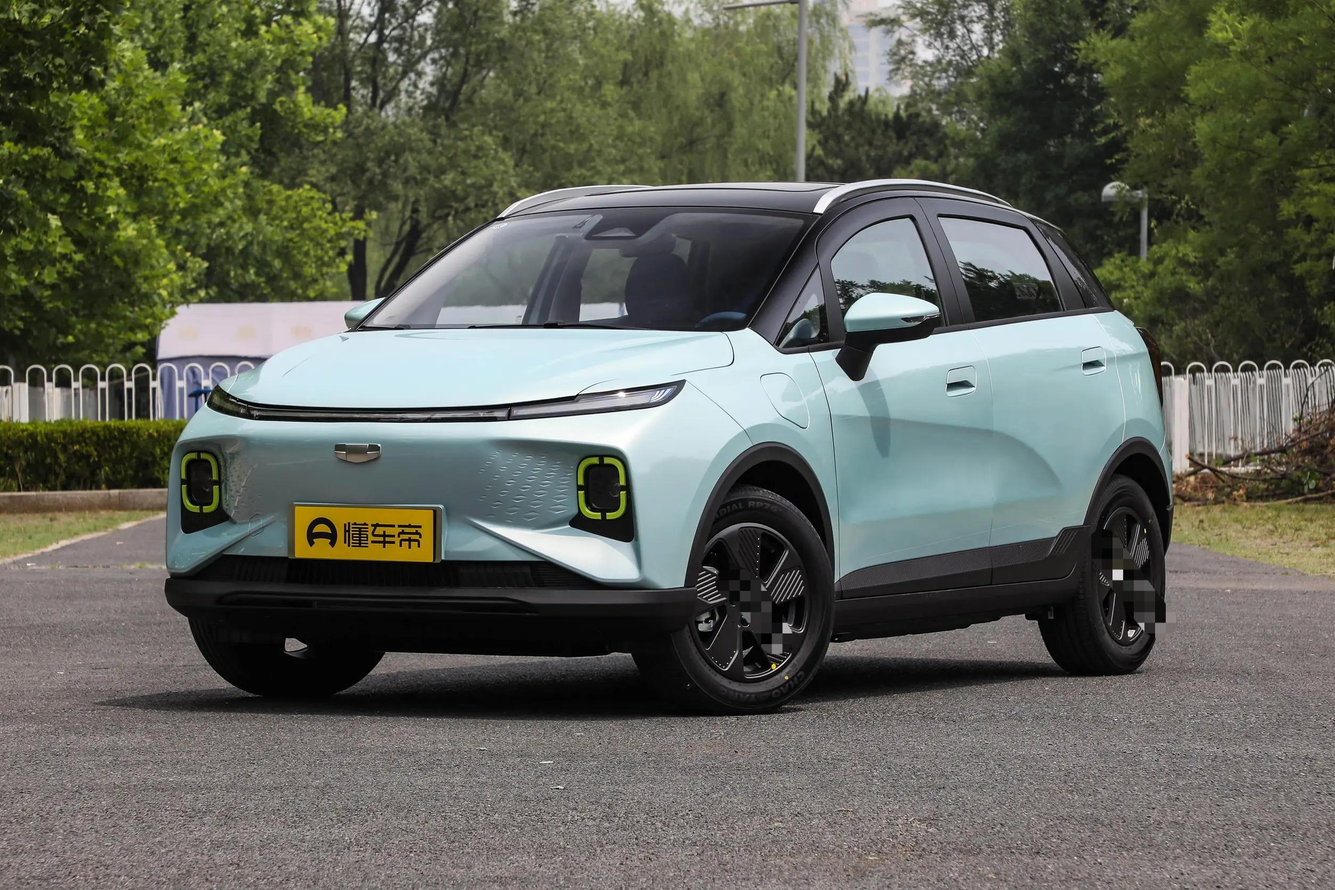GEOMETRY: (335, 444, 380, 462)
